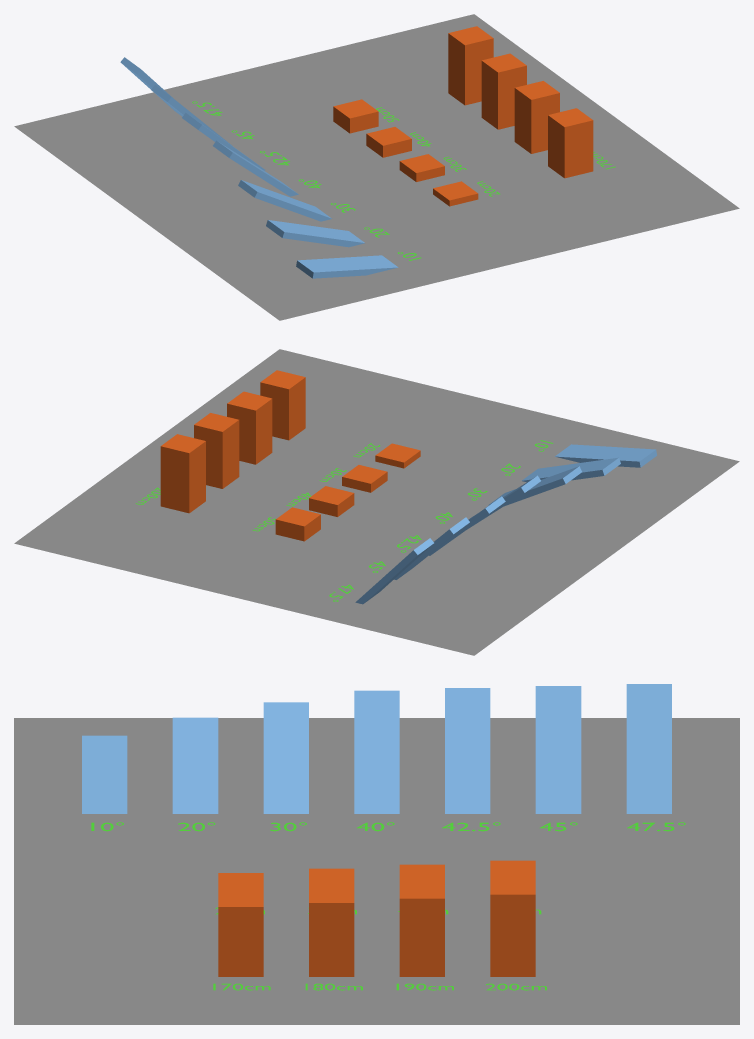
File: jumps.glb
The picture shows the model from 3 angles, top to bottom: view 1: azimuth 30°, elevation 25°; view 2: azimuth 150°, elevation 25°; view 3: azimuth 270°, elevation 25°; orthographic projection. The views are drawn at different scales.
Parts seen in each view (by area): view 1: Plane, Cube.010, Cube.013, Cube.012, Cube.011, Cube.003, Cube.000, Cube.009, Cube.001, Cube.008, Cube.007, Cube.002 (+2 smaller); view 2: Plane, Cube.013, Cube.012, Cube.011, Cube.010, Cube.003, Cube.009, Cube.000, Cube.008, Cube.007, Cube.006, Cube.001 (+2 smaller); view 3: Plane, Cube.005, Cube.006, Cube.004, Cube.002, Cube.001, Cube.013, Cube.000, Cube.012, Cube.011, Cube.010, Cube.003 (+4 smaller).
Boxes of the visible parts, x1,y1,x2,y2 form: Plane: (14,14,739,320); Cube.010: (548,108,593,178); Cube.013: (448,26,493,105); Cube.012: (481,53,526,129); Cube.011: (514,81,559,153); Cube.003: (296,255,398,278); Cube.000: (266,220,364,247); Cube.009: (333,99,378,133); Cube.001: (238,180,331,221); Cube.008: (366,127,411,157); Cube.007: (399,154,444,181); Cube.002: (213,140,298,196); Plane: (14,349,739,655); Cube.013: (160,434,205,513); Cube.012: (194,413,239,488); Cube.011: (227,391,272,464); Cube.010: (260,370,305,440); Cube.003: (555,444,656,467); Cube.009: (275,507,320,541); Cube.000: (521,457,620,482); Cube.008: (309,486,354,516); Cube.007: (342,465,387,492); Cube.006: (355,538,433,604); Cube.001: (488,466,581,506); Plane: (14,718,739,1024); Cube.005: (535,686,581,813); Cube.006: (626,684,671,813); Cube.004: (445,688,490,813); Cube.002: (354,690,399,813); Cube.001: (263,702,308,813); Cube.013: (490,875,535,976); Cube.000: (172,717,218,813); Cube.012: (399,879,444,976); Cube.011: (309,883,354,976); Cube.010: (218,888,263,976); Cube.003: (82,735,127,813).
Size of what is drawn, in the model's own units: 16 by 2.41 by 16.
